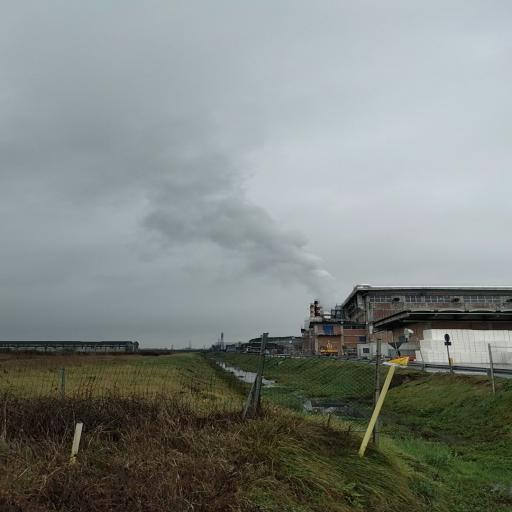leakage: (44, 114, 351, 324)
